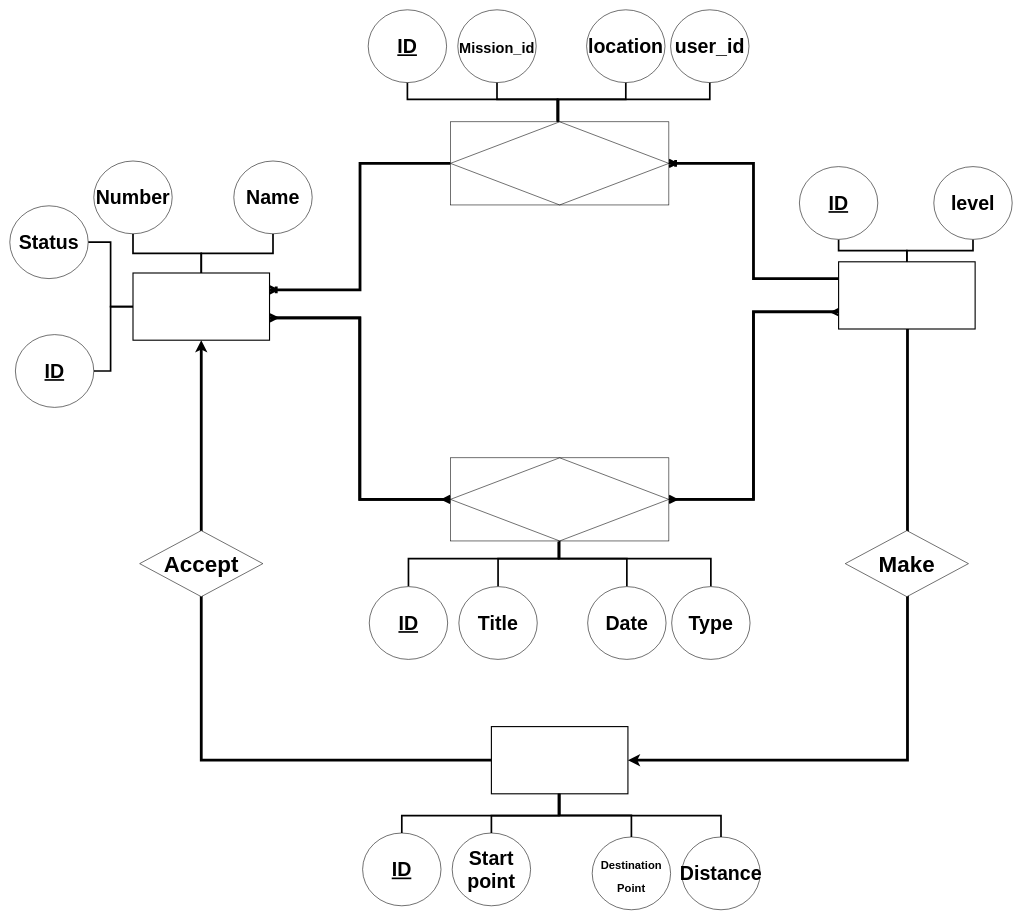
This 1022x920 diagram has some shape labels left out. The centre of each missing label's shape, as x and y in pixels:
Admin: [906,295]
Check: [559,163]
Message: [559,499]
Mission: [559,760]
User: [201,306]
